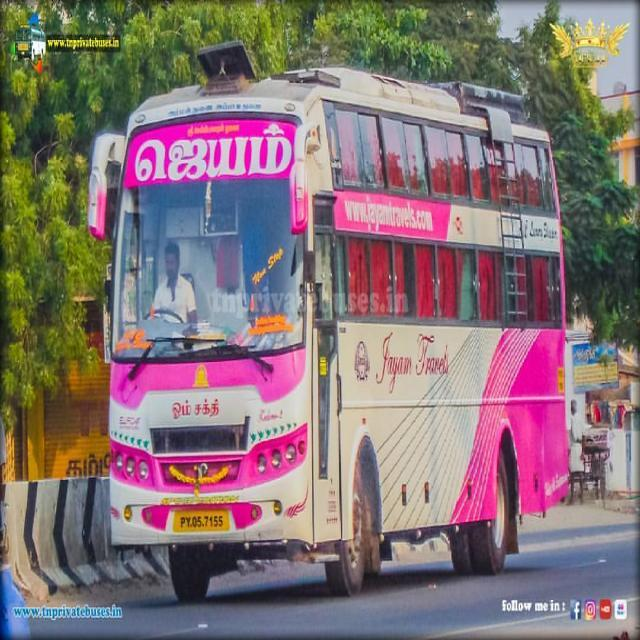Bus: (85, 34, 570, 598)
